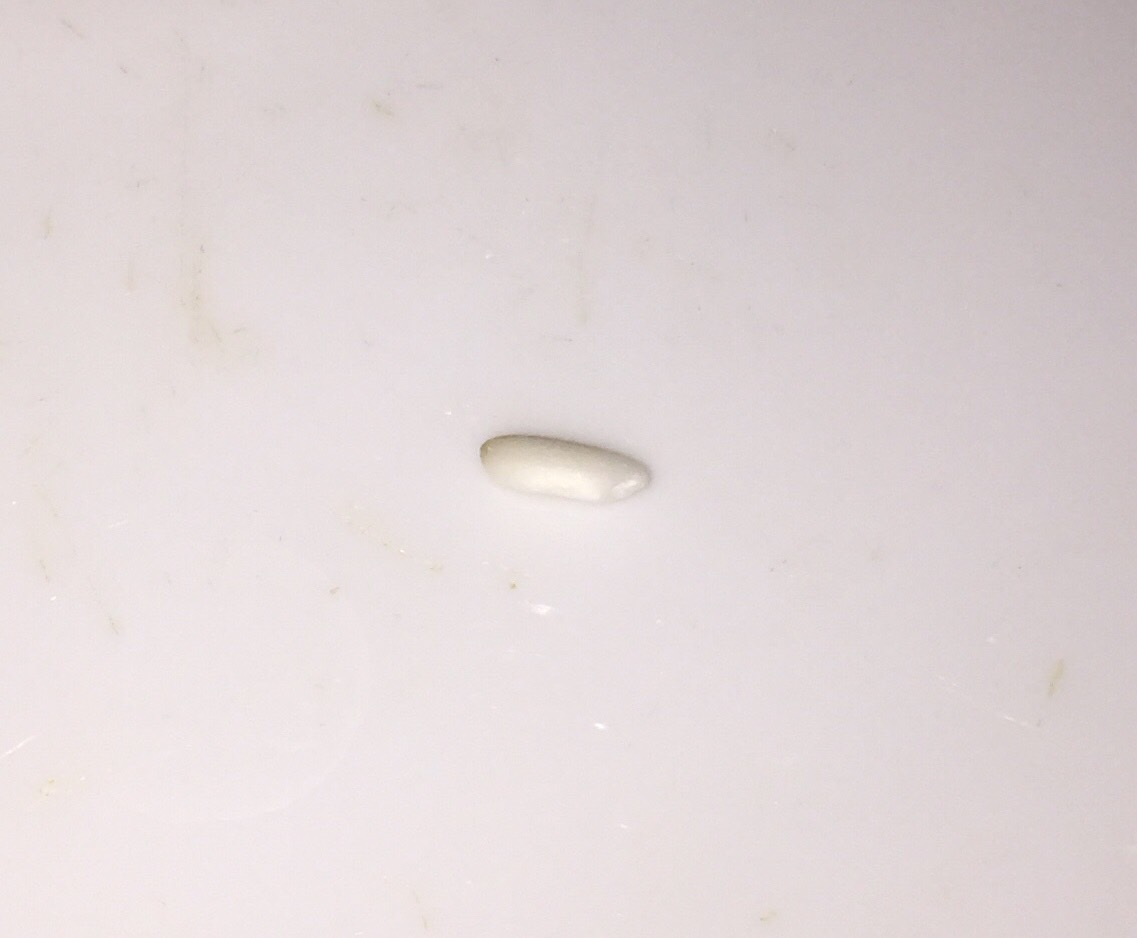Gao Nep Sap: (474, 404, 662, 536)
